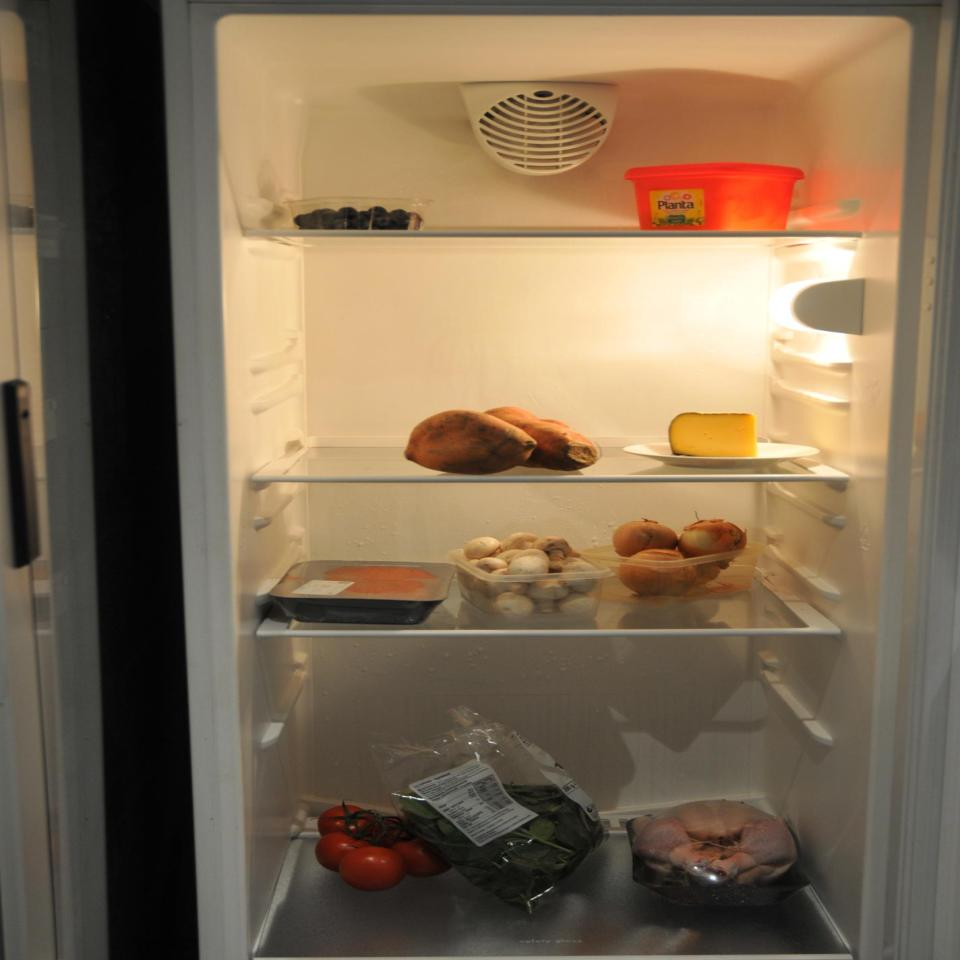Carne pollo: (624, 795, 814, 913)
Mantequilla: (625, 163, 816, 231)
Queso: (666, 408, 765, 464)
Tomate: (314, 793, 462, 893)
blueberries: (281, 195, 432, 230)
